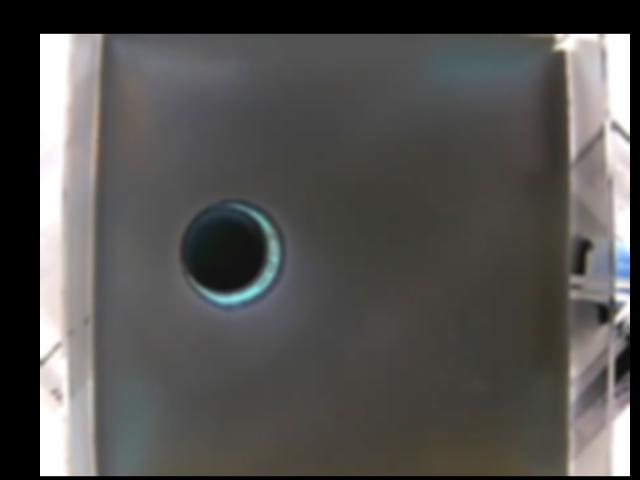Cup: (175, 200, 288, 309)
